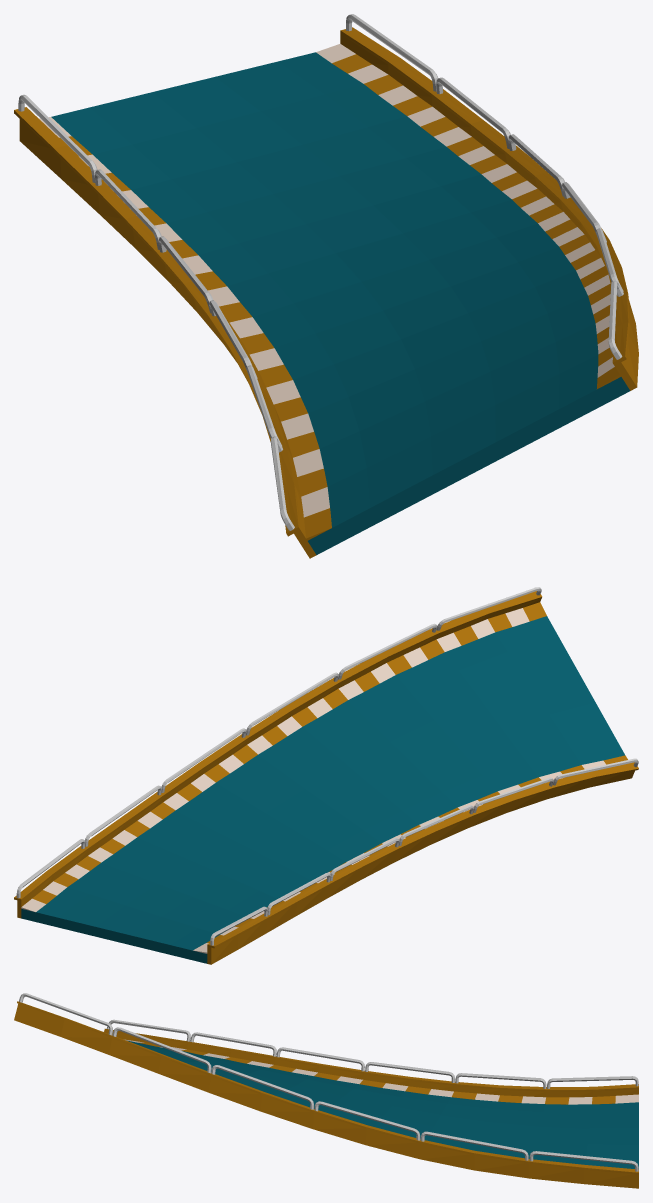
File: curveRight-30-Banked-30.FBX
3 views of the same model, one above another, from view 1: azimuth 30°, elevation 25°; view 2: azimuth 150°, elevation 25°; view 3: azimuth 270°, elevation 25° (orthographic). The views are drawn at different scales.
Visible parts, largest first — view 1: curveRight-30-banked-30, wall_r, wall_l, curbs_l, curbs_r; view 2: curveRight-30-banked-30, wall_r, wall_l, curbs_l, curbs_r; view 3: curveRight-30-banked-30, wall_l, wall_r, curbs_r.
Boxes of the visible parts, x1,y1,x2,y2 form: curveRight-30-banked-30: (51,52,629,554); wall_r: (14,94,316,558); wall_l: (340,14,638,390); curbs_l: (316,43,620,389); curbs_r: (39,117,331,540); curveRight-30-banked-30: (21,616,624,963); wall_r: (207,758,638,964); wall_l: (14,587,542,918); curbs_l: (21,602,546,912); curbs_r: (193,755,627,953); curveRight-30-banked-30: (127,1040,638,1169); wall_l: (14,993,638,1188); wall_r: (104,1019,638,1097); curbs_r: (124,1039,638,1104).
Size of what is drawn, in the model's own units: 344 by 131 by 616.
